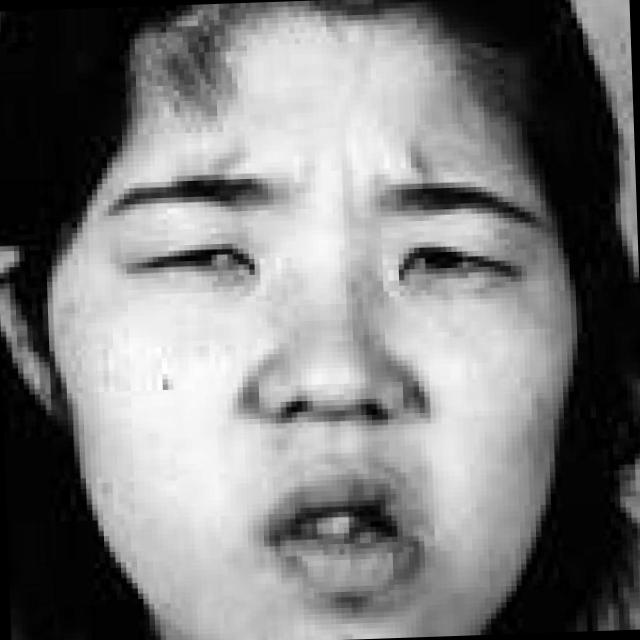disgust: (70, 77, 569, 635)
